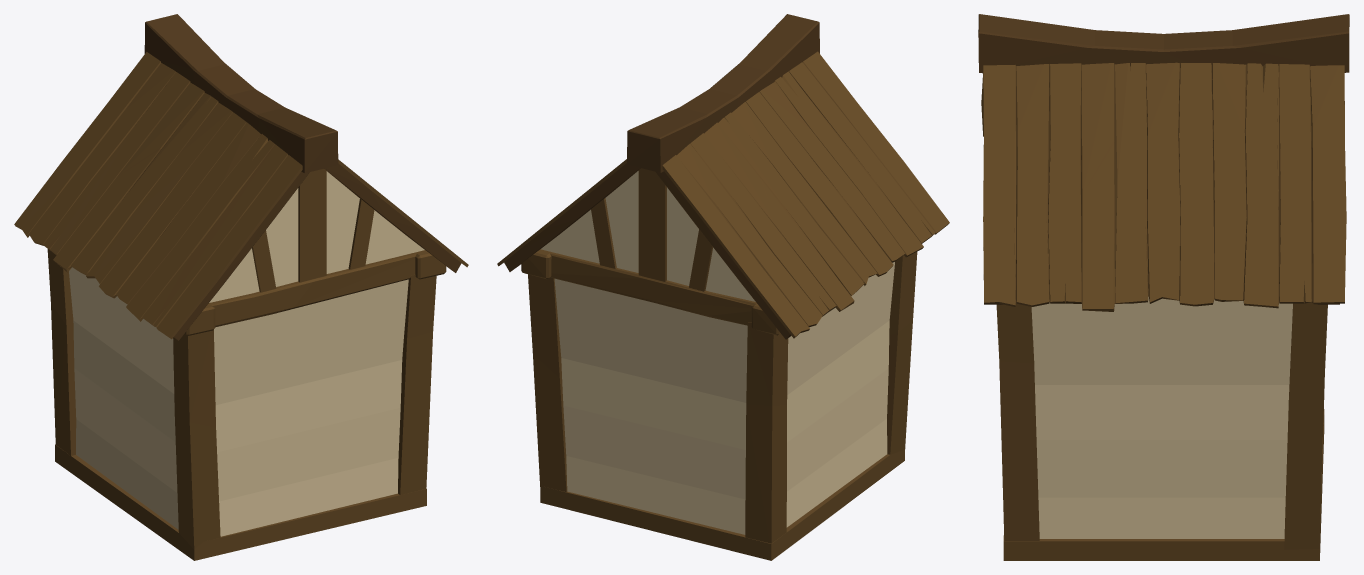
The model's file is SmallHouse_04.fbx.
3 views of the same model, side by side, from view 1: azimuth 30°, elevation 25°; view 2: azimuth 150°, elevation 25°; view 3: azimuth 270°, elevation 25° (orthographic). The views are drawn at different scales.
Parts seen in each view (by area): view 1: SmallHouse_04; view 2: SmallHouse_04; view 3: SmallHouse_04.
Boxes of the visible parts, box(x1,y1,x2,y2) form: SmallHouse_04: box(14, 14, 468, 560); SmallHouse_04: box(497, 14, 949, 560); SmallHouse_04: box(978, 14, 1349, 560).
Size of the model in its own units: 3.23 by 4.1 by 2.92.
